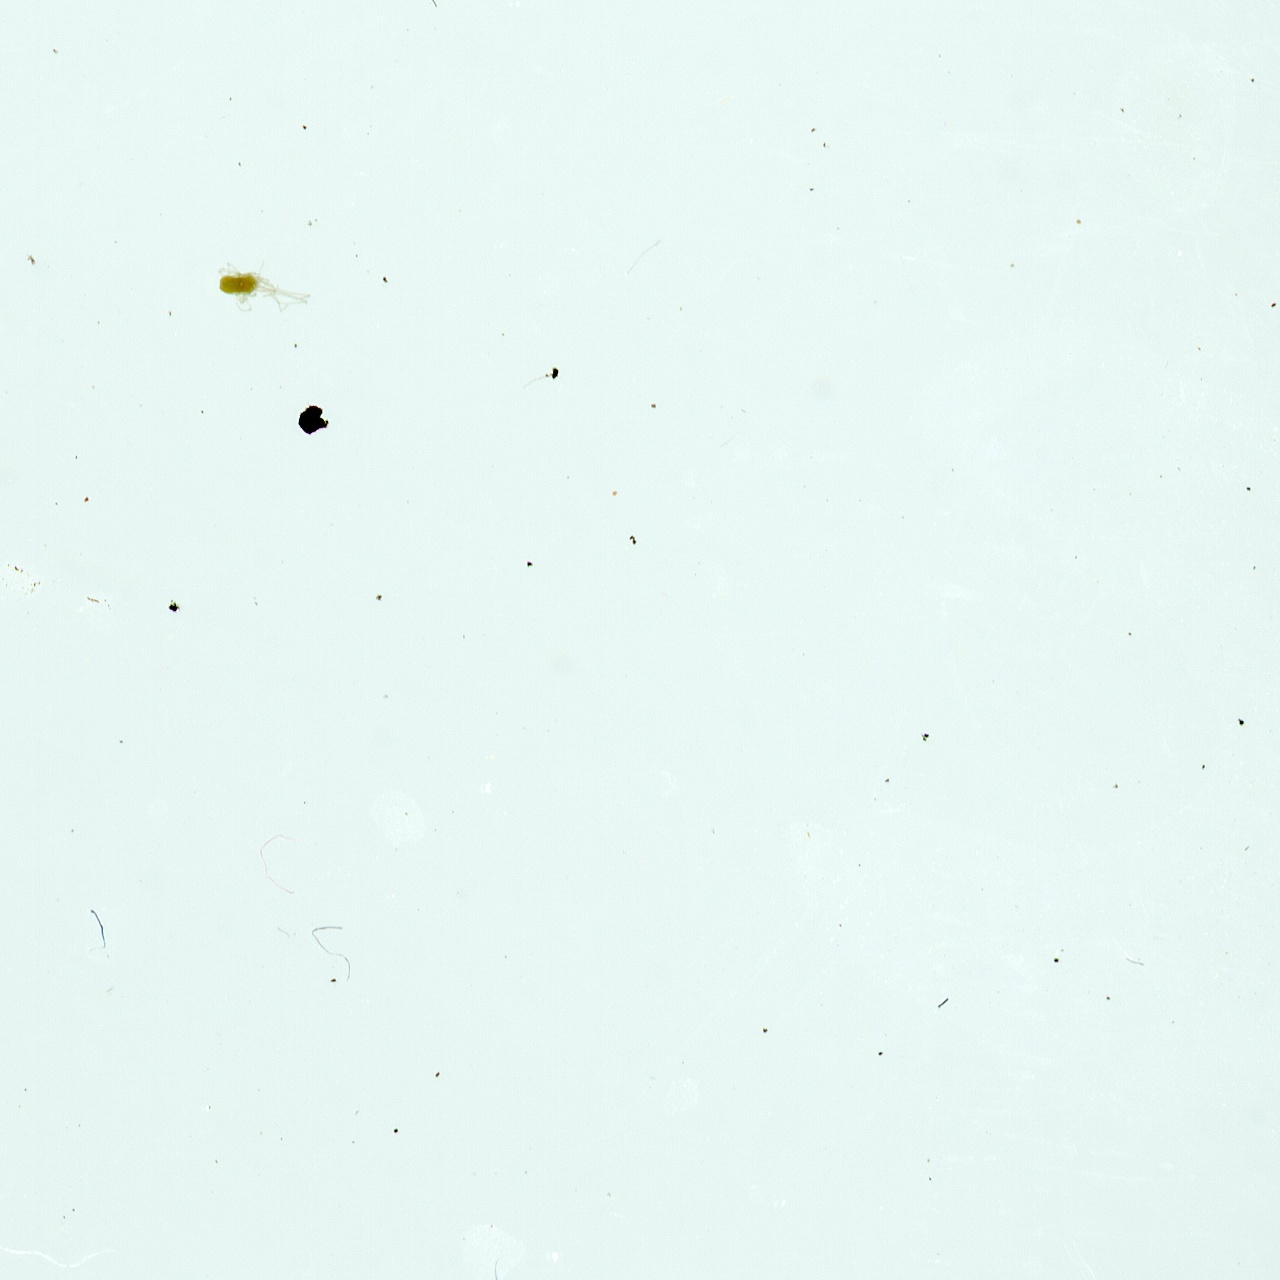arthropod: (214, 256, 317, 314)
